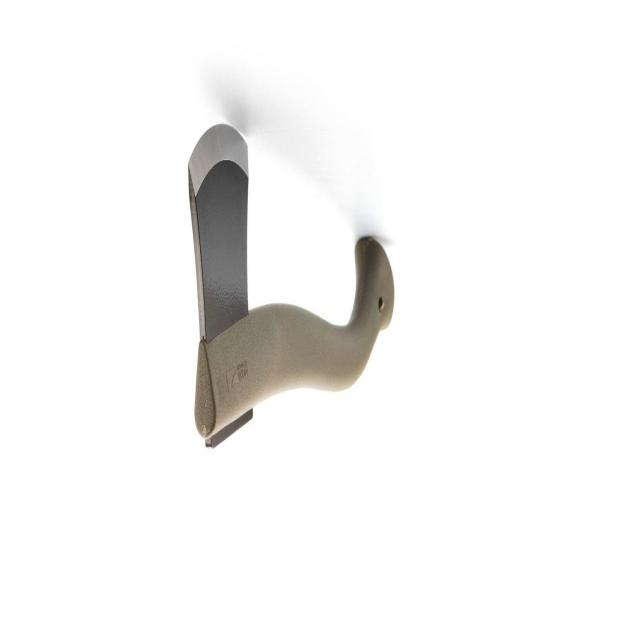Kapak: (175, 123, 394, 452)
